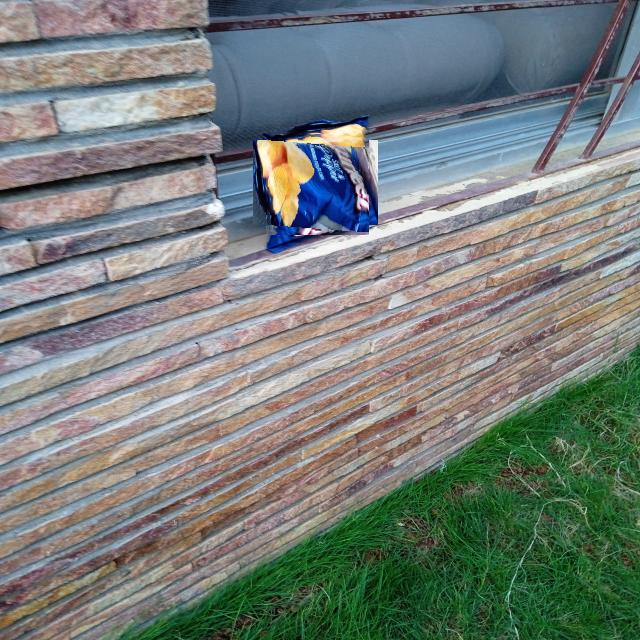Plastic: (263, 130, 369, 235)
